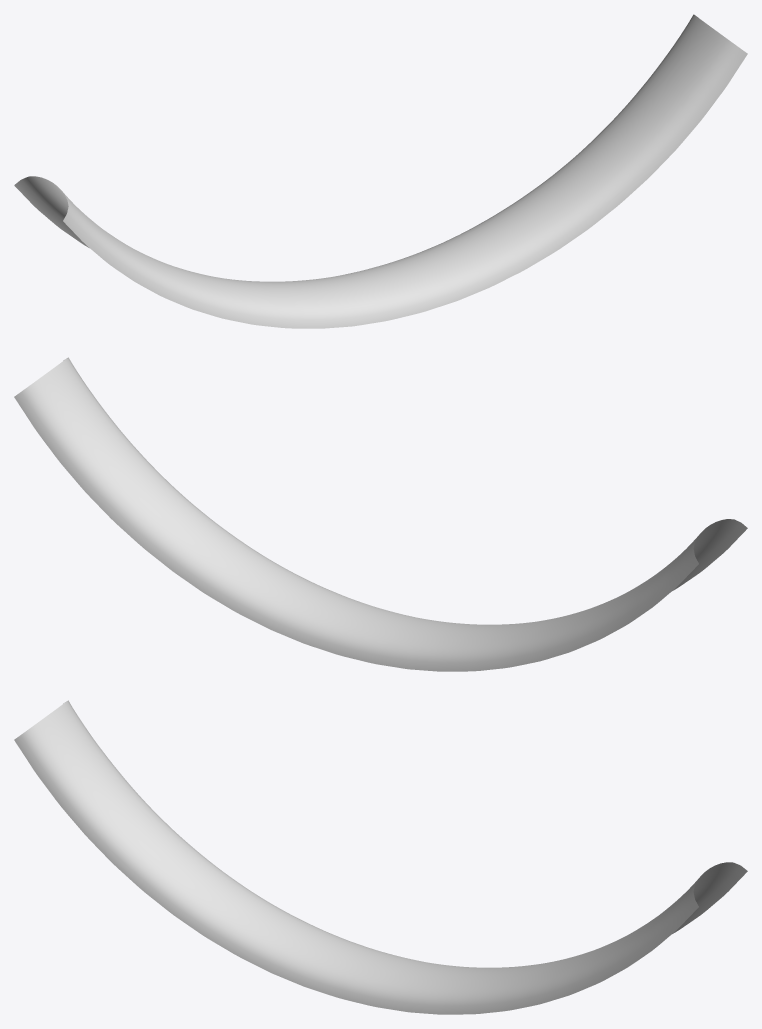
The model's file is UV_TCC.glb.
3 renders of one model, top to bottom at view 1: azimuth 30°, elevation 25°; view 2: azimuth 150°, elevation 25°; view 3: azimuth 330°, elevation 25°, orthographic.
Parts seen in each view (by area): view 1: UV_1; view 2: UV_1; view 3: UV_1.
Part boxes in pixels (box(x1,y1,x2,y2)): UV_1: box(14, 14, 747, 328); UV_1: box(14, 357, 747, 671); UV_1: box(14, 700, 747, 1014).
Bounding box in the file's own units: 14.55 × 3.95 × 1.8.
Materials: 1 (1 with a texture image).
